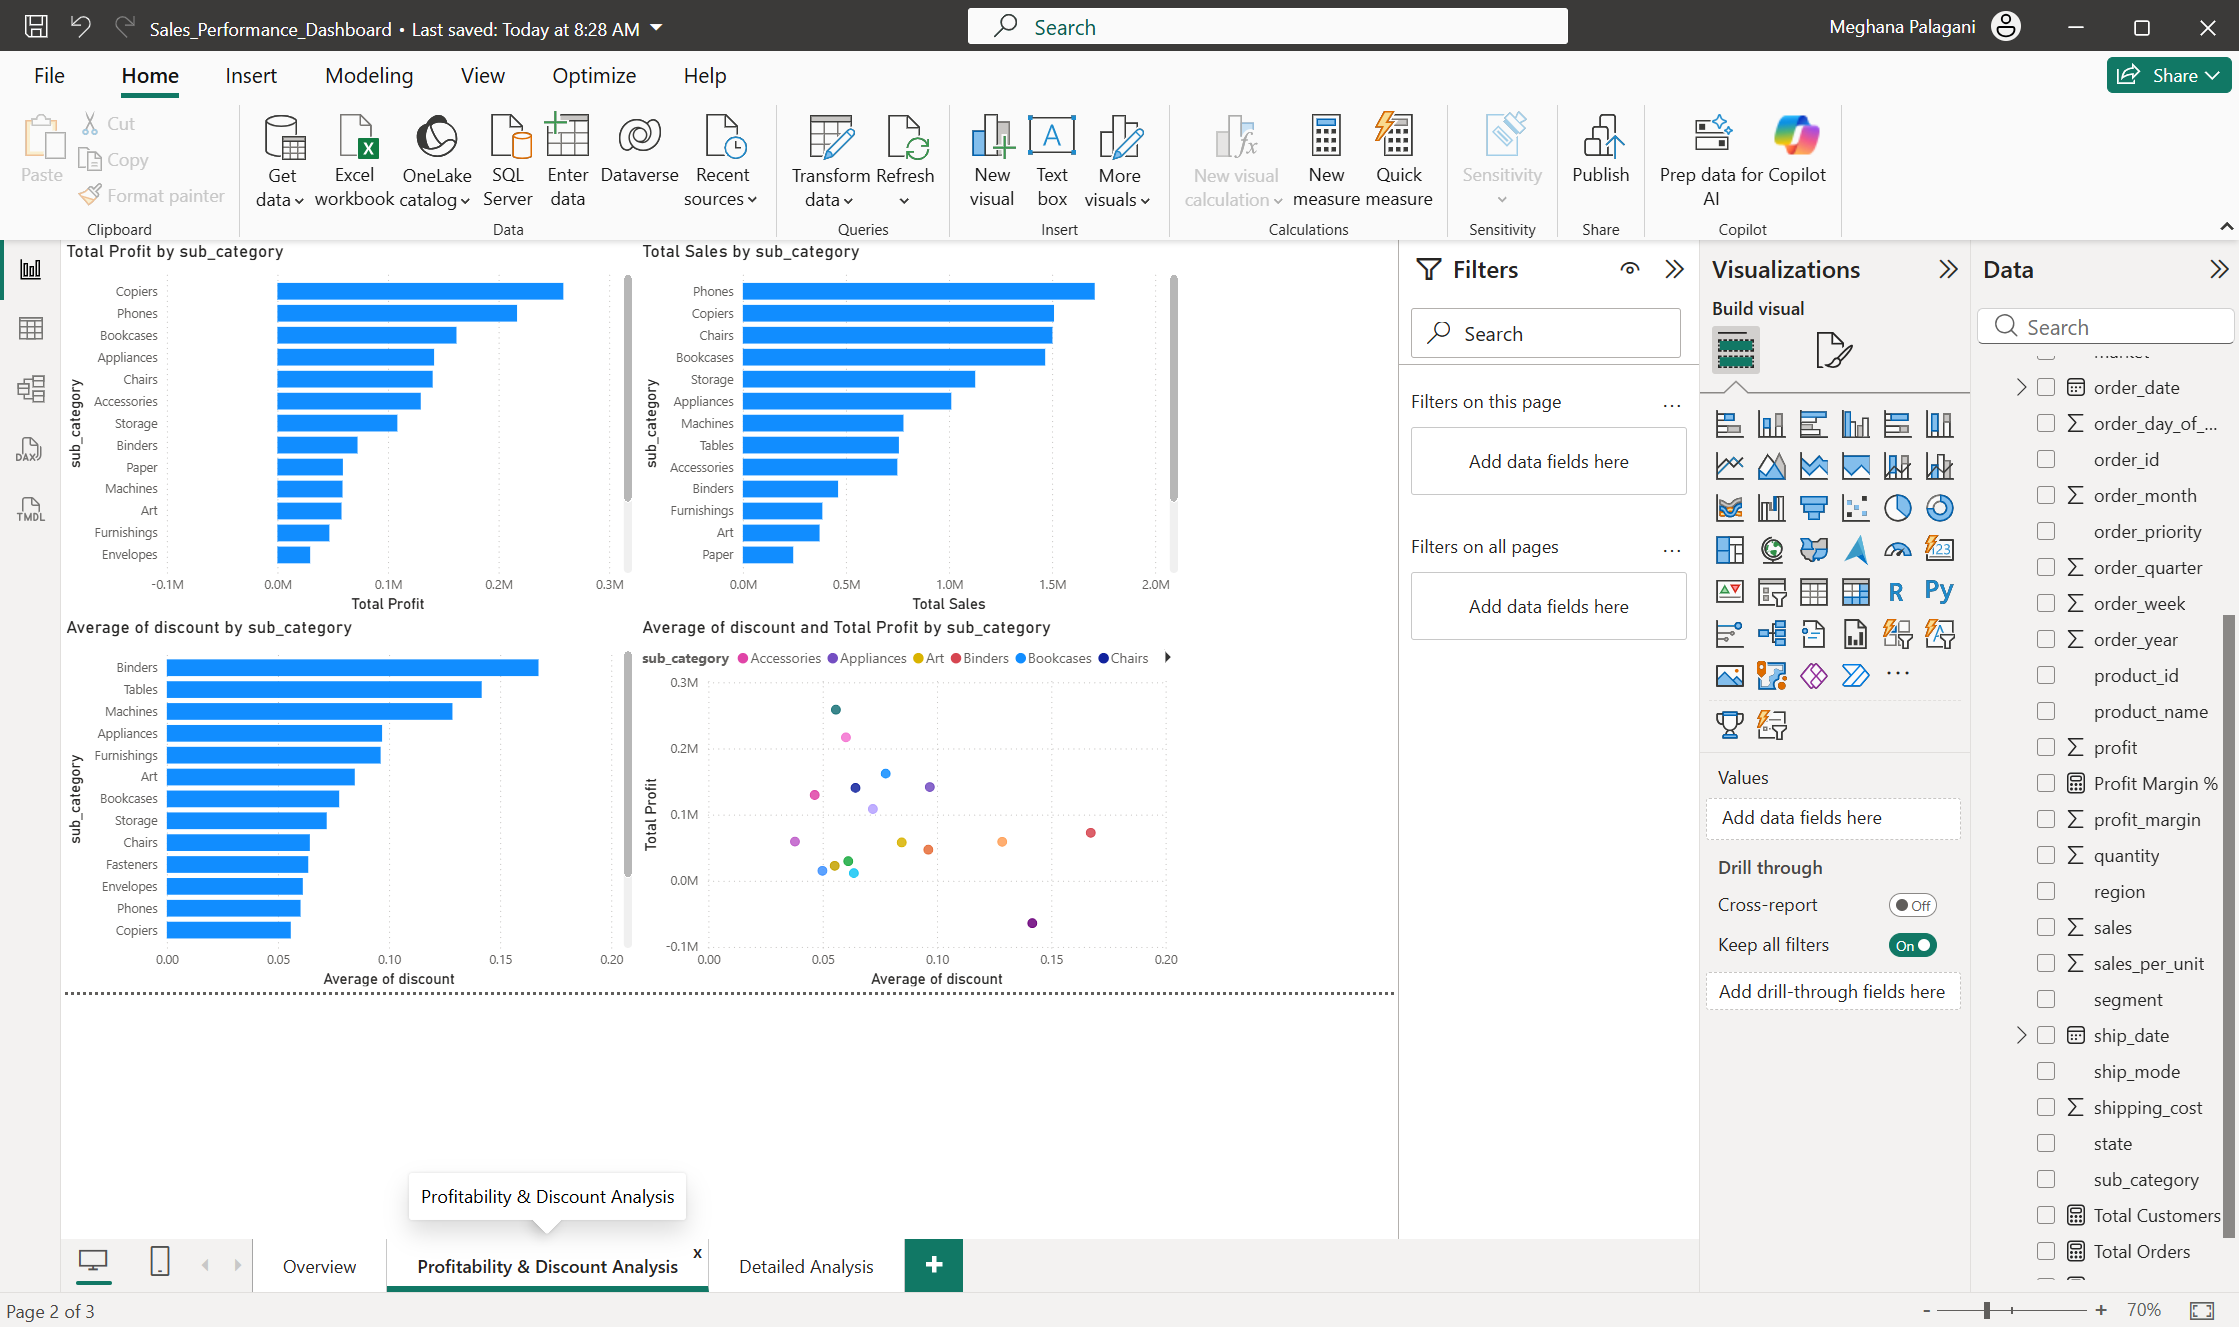

The dashboard page shown, as its layout file describes it:
{"tool":"powerbi","page":{"name":"Profitability & Discount Analysis","canvas":[1280,720],"ordinal":1},"visuals":[{"type":"barChart","fields":{"Y":["superstore_cleaned_complete.Total Profit"],"Category":["superstore_cleaned_complete.sub_category"]},"box":[0,0,551.4,360.5],"z":0},{"type":"barChart","fields":{"Category":["superstore_cleaned_complete.sub_category"],"Y":["superstore_cleaned_complete.Total Sales"]},"box":[551.4,0,522.7,360.5],"z":1000},{"type":"barChart","fields":{"Category":["superstore_cleaned_complete.sub_category"],"Y":["Avg(superstore_cleaned_complete.discount)"]},"box":[0,360.5,551.4,359],"z":2000},{"type":"scatterChart","fields":{"Y":["superstore_cleaned_complete.Total Profit"],"X":["Avg(superstore_cleaned_complete.discount)"],"Series":["superstore_cleaned_complete.sub_category"]},"box":[551.4,360.5,522.7,359],"z":3000}]}

Visuals, with their boxes on the page's 1280x720 design canvas (x1, y1, x2, y2). These are canvas units, not pixel positions in the 2239x1327 screenshot, which may show the page scaled, cropped or inside an application window:
barChart - superstore_cleaned_complete.Total Profit x superstore_cleaned_complete.sub_category: box=[0, 0, 551, 360]
barChart - superstore_cleaned_complete.sub_category x superstore_cleaned_complete.Total Sales: box=[551, 0, 1074, 360]
barChart - superstore_cleaned_complete.sub_category x Avg(superstore_cleaned_complete.discount): box=[0, 360, 551, 720]
scatterChart - superstore_cleaned_complete.Total Profit x Avg(superstore_cleaned_complete.discount): box=[551, 360, 1074, 720]
